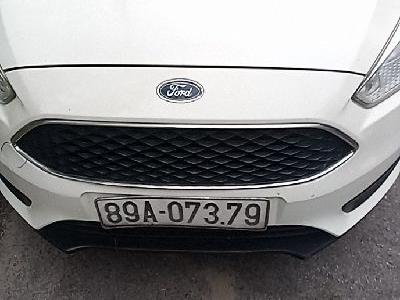car: (95, 196, 269, 231)
